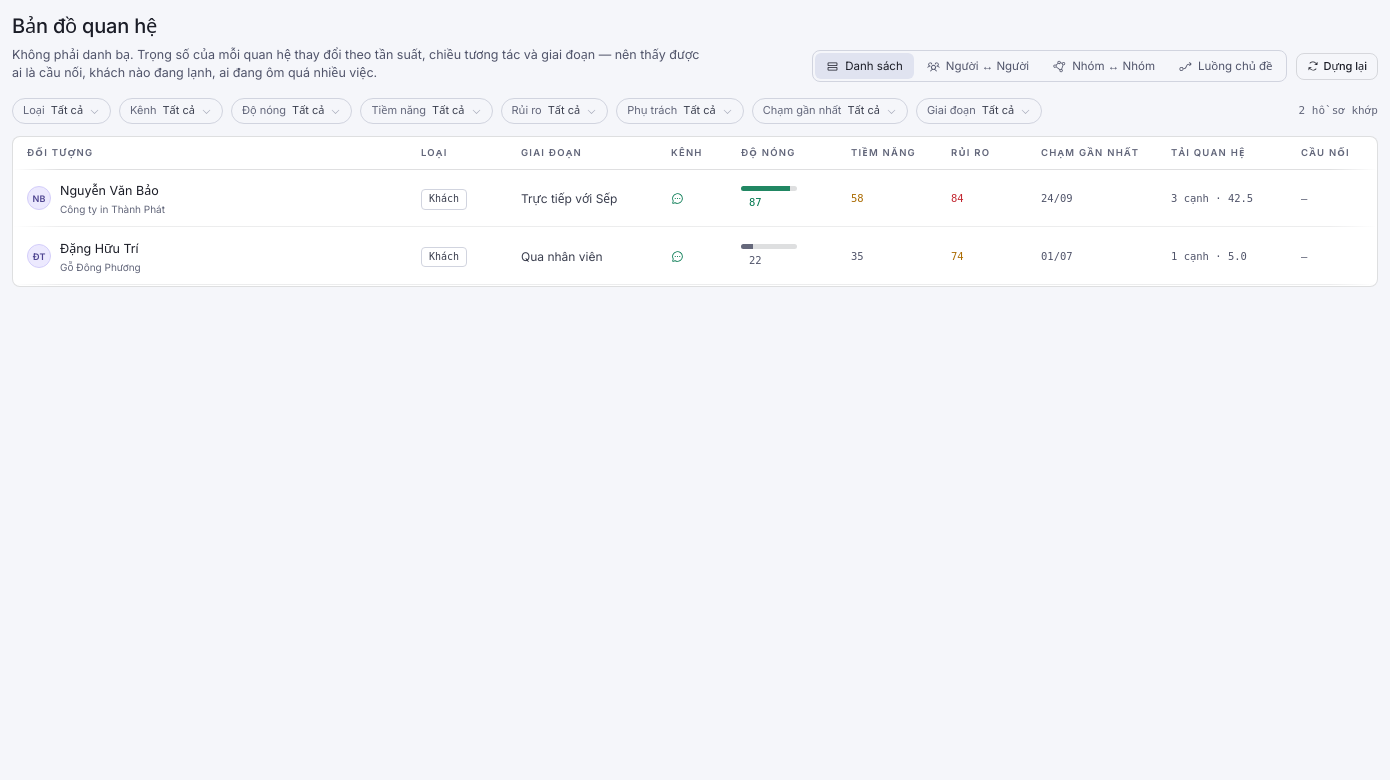
Scenario: Bản đồ quan hệ › chế độ Luồng chủ đề: danh sách rồi bấm một luồng mở đồ thị chi tiết
Click the radio button labelled "Luồng chủ đề" at {"x": 1226, "y": 66}, box top-left (1168, 53), bottom-right (1284, 79)
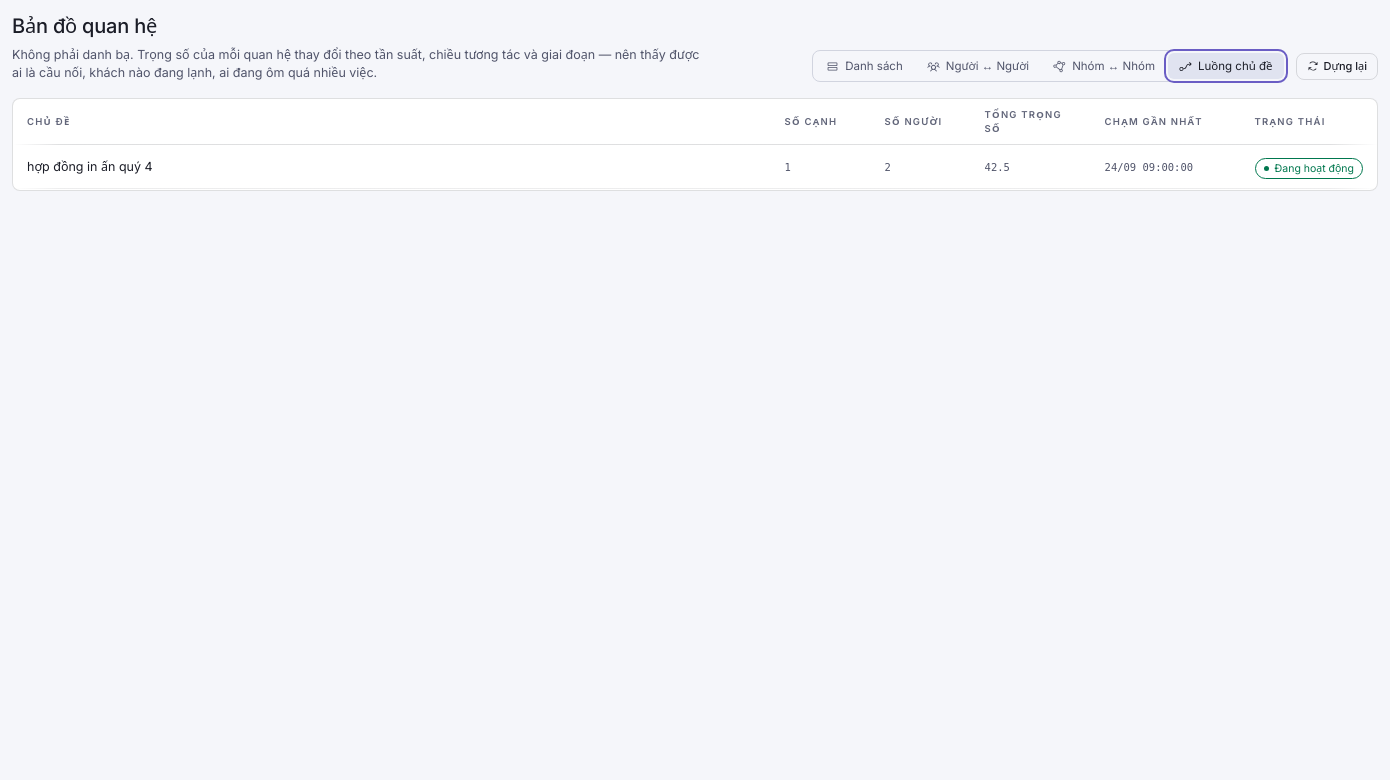
Click the text "hợp đồng in ấn quý 4" at {"x": 90, "y": 167}, box top-left (13, 145), bottom-right (771, 189)
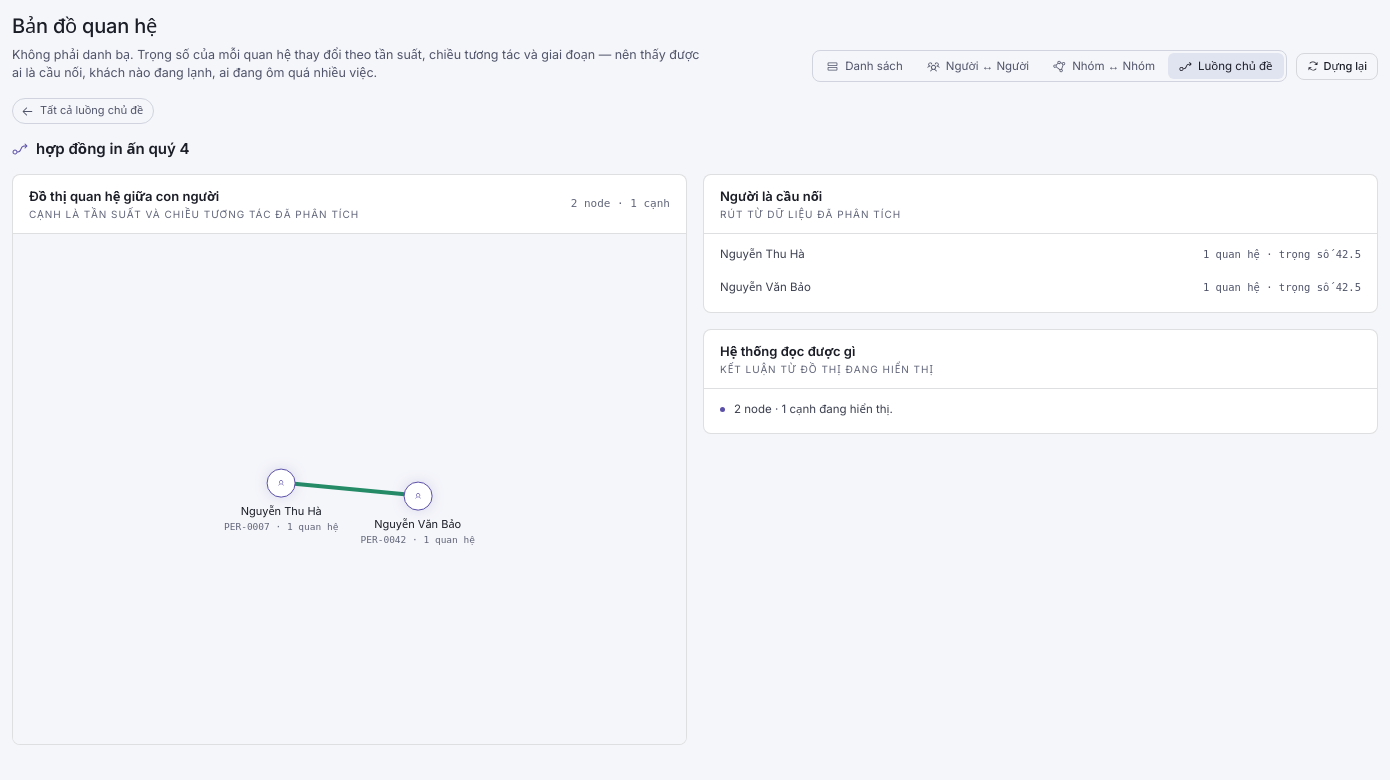
Expected: the text "hợp đồng in ấn quý 4" is shown, top-left (36, 138), bottom-right (190, 160)
Expected: the text "Nguyễn Thu Hà" below "Đồ thị quan hệ giữa con người" is shown, top-left (241, 503), bottom-right (322, 517)
